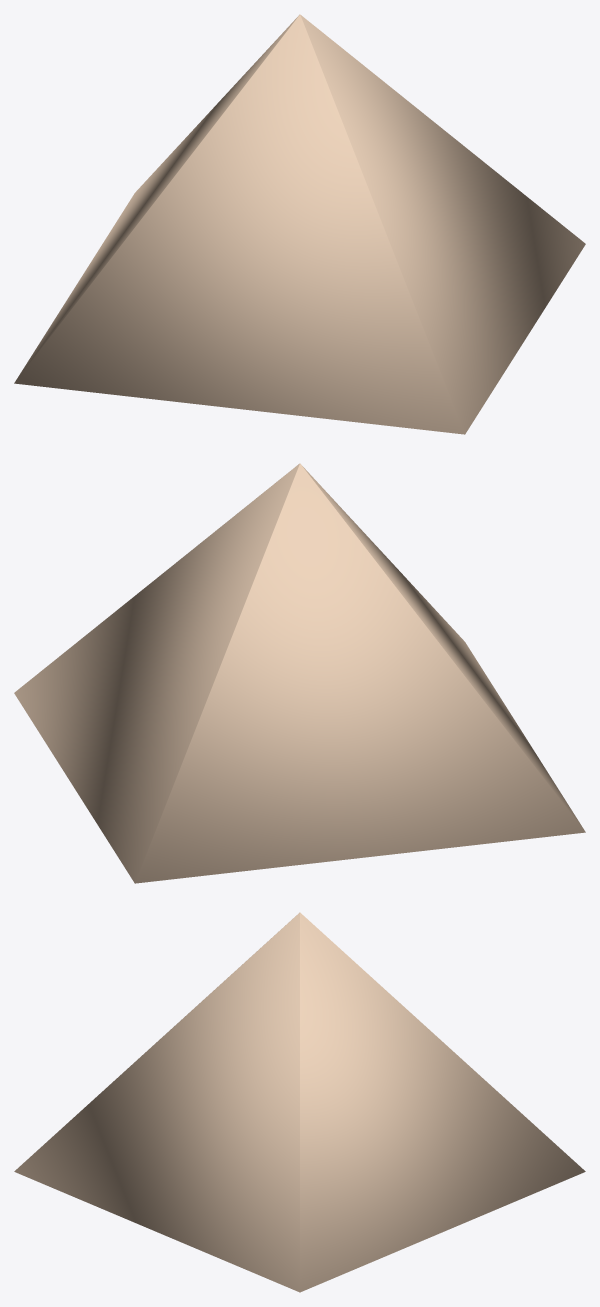
3 renders of one model, top to bottom at view 1: azimuth 30°, elevation 25°; view 2: azimuth 150°, elevation 25°; view 3: azimuth 270°, elevation 25°, orthographic. The views are drawn at different scales.
Visible parts, largest first — view 1: pyramid; view 2: pyramid; view 3: pyramid.
Part boxes in pixels (left/top/right/bottom): pyramid: left=14, top=14, right=585, bottom=434; pyramid: left=14, top=463, right=585, bottom=883; pyramid: left=14, top=912, right=585, bottom=1292.
Size of the model in its own units: 2.4 by 1.2 by 2.4.
